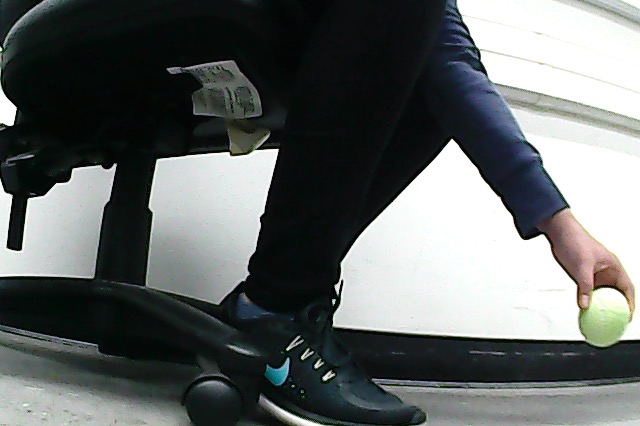ball: (579, 288, 629, 347)
